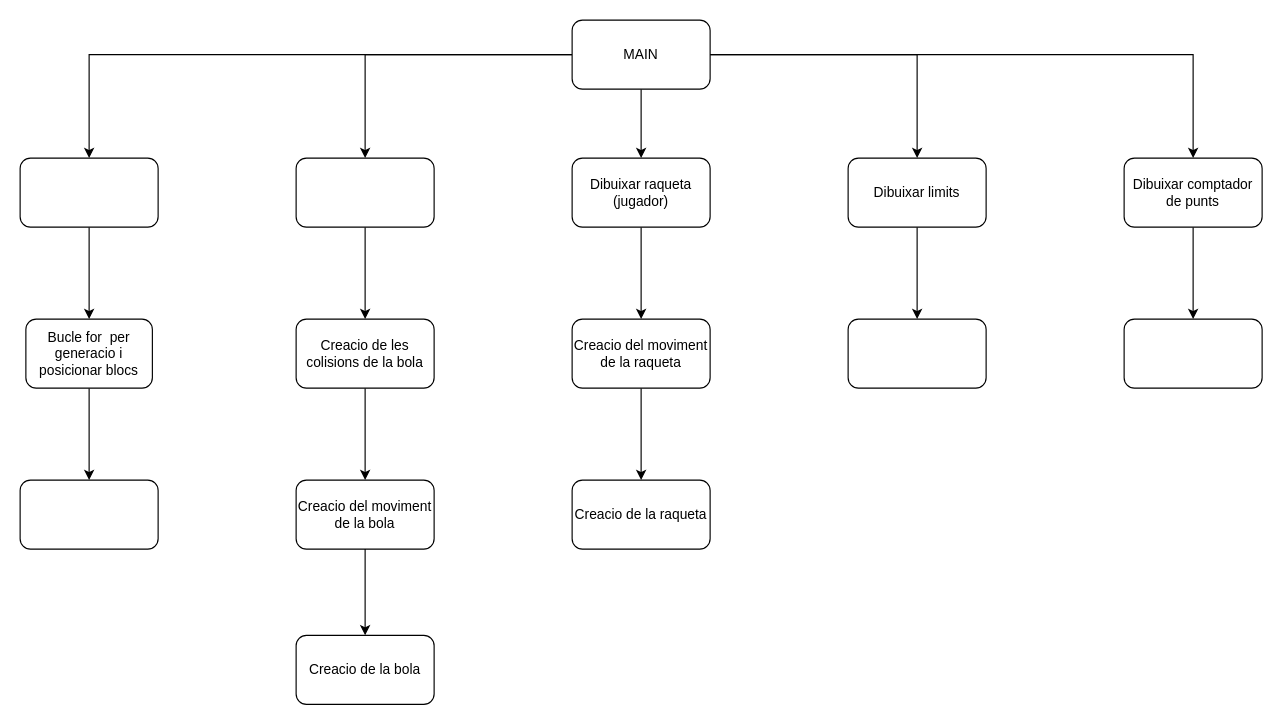
The diagram is 1282 pixels wide and 725 high, and some of its shapes have lost their labels. Each missing label, with the box of its shape:
Creacio del bloc base: (19, 479, 158, 549)
Crear 3 rectangles per limitar el moviment de la bola: (847, 318, 986, 388)
Dibuixar blocs: (19, 157, 158, 227)
Dibuixar bola: (295, 157, 434, 227)
Identificar quants blocs han sigut eliminats: (1123, 318, 1262, 388)
